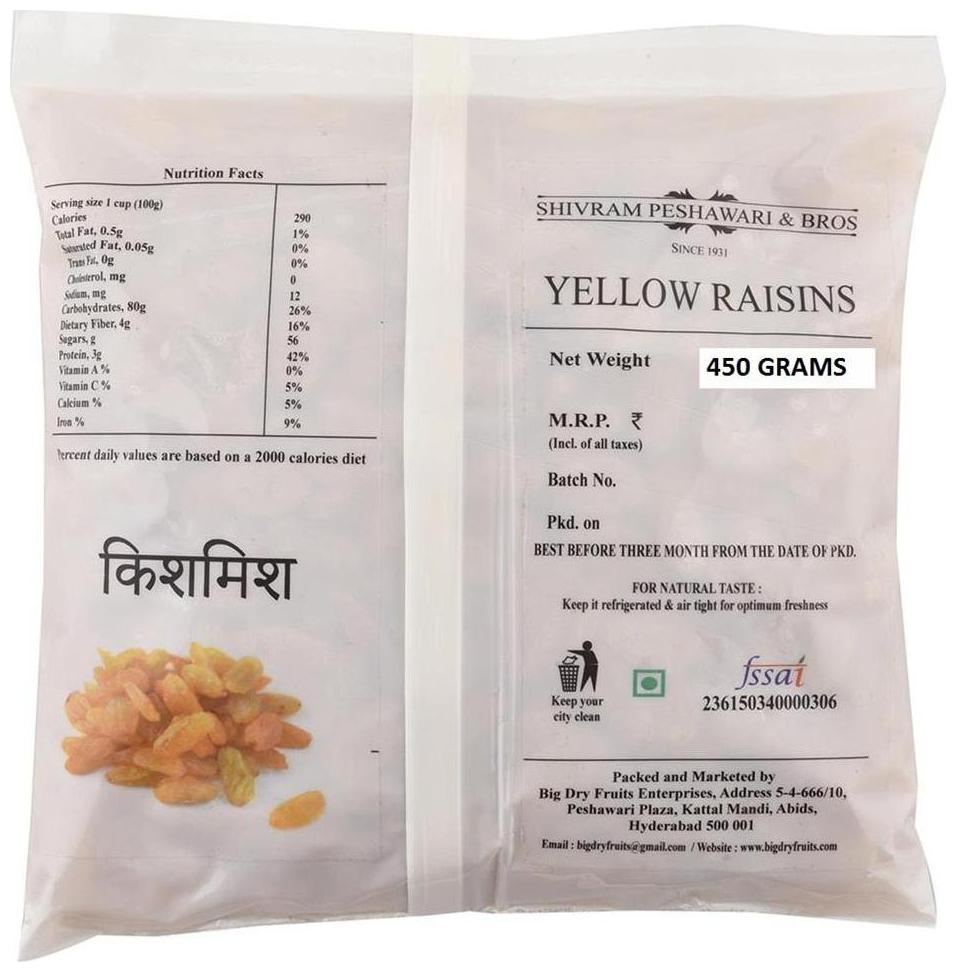fssai: (732, 652, 813, 692)
